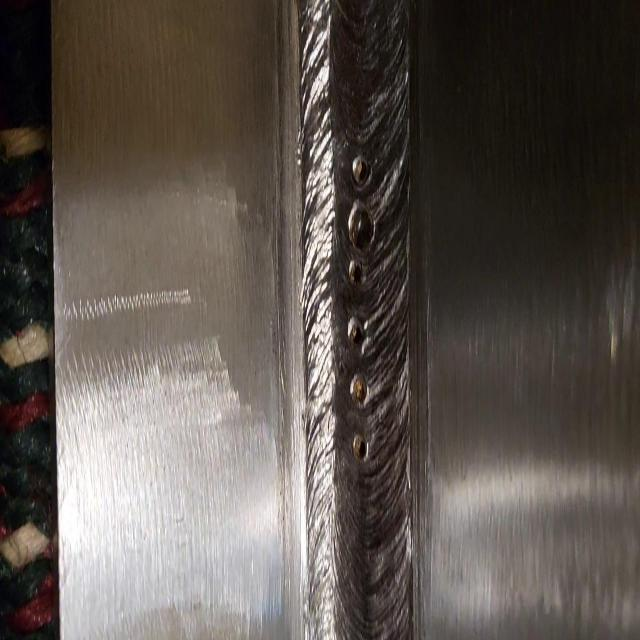Welding Line: (300, 7, 407, 640)
Workpiece: (52, 6, 640, 640)
porosity: (345, 153, 375, 461)
